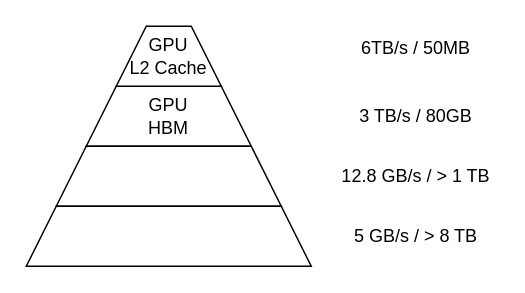
Some shapes in this 525 by 293 pixel diagram are drawn without their labels. The shapes that lost their labels are listed below. From the top down, each one's box as (x1, y1, x2, y2) in pixels, then its label:
(55, 145, 281, 206): Main Memory
(25, 205, 311, 266): NVMe disk
